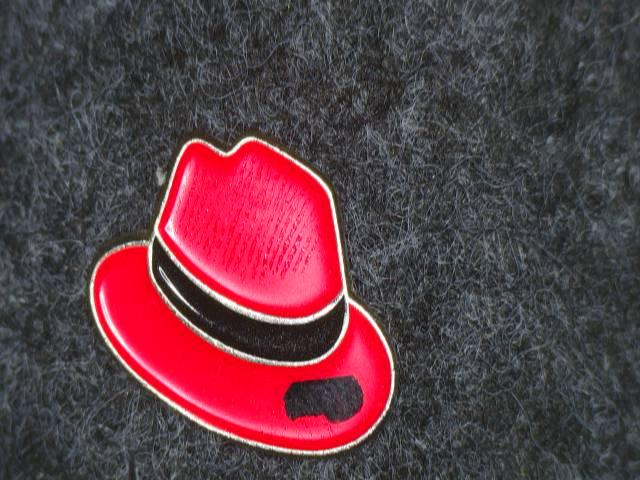Red-Hat: (33, 111, 423, 468)
Scratch: (267, 365, 377, 433)
